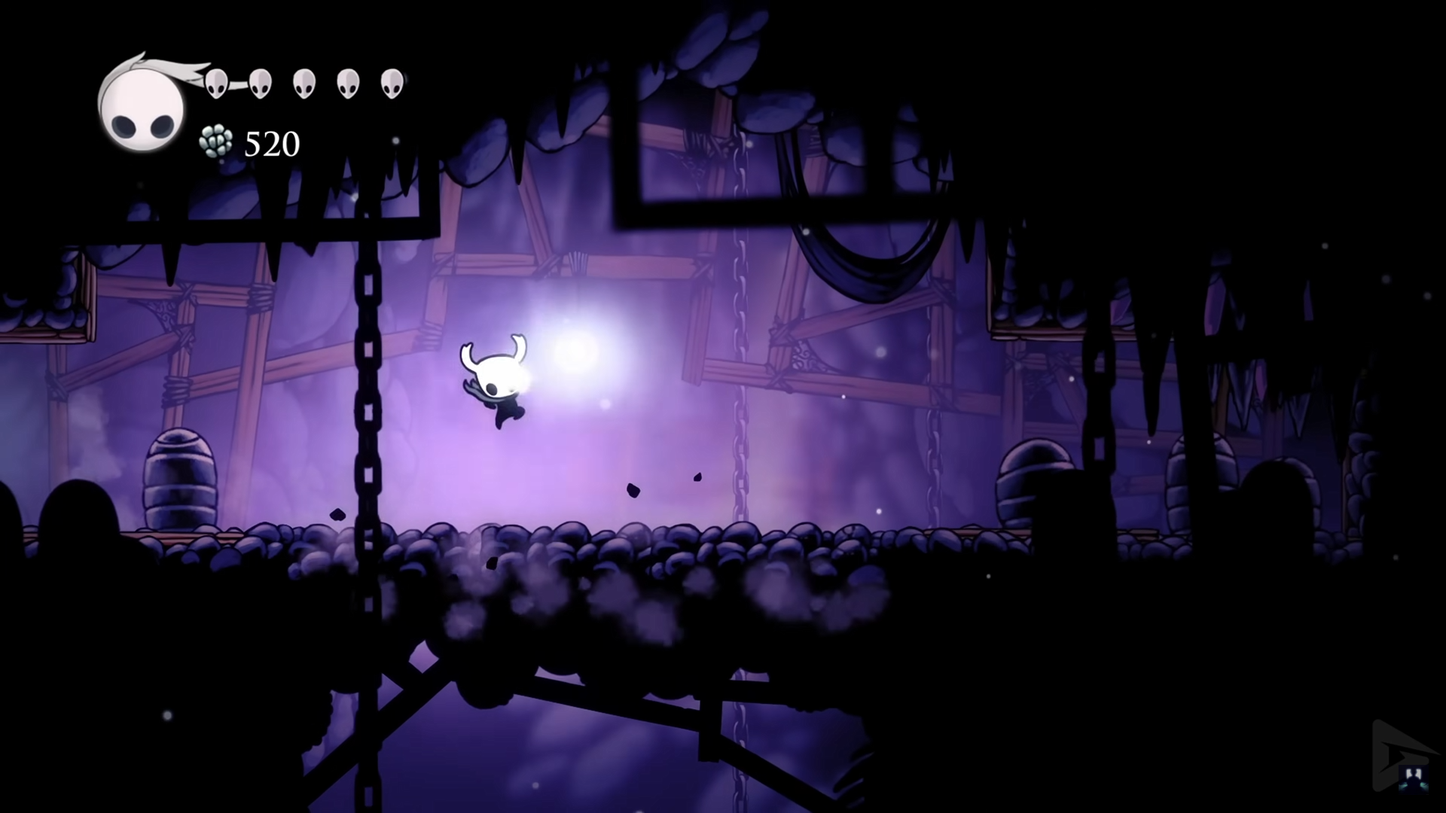HK: (459, 330, 532, 431)
